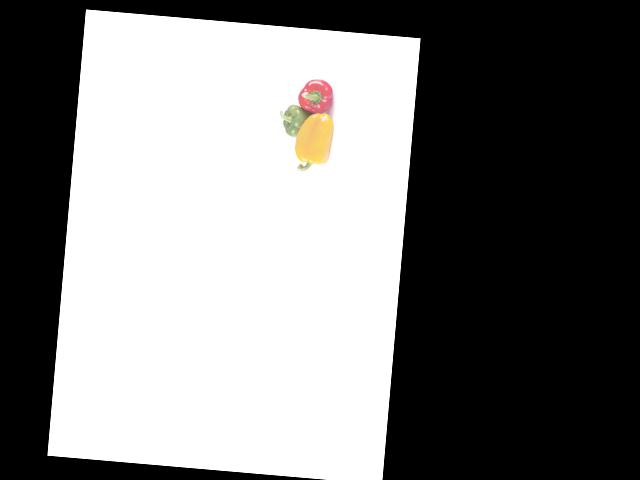bell_pepper: (277, 100, 313, 141)
